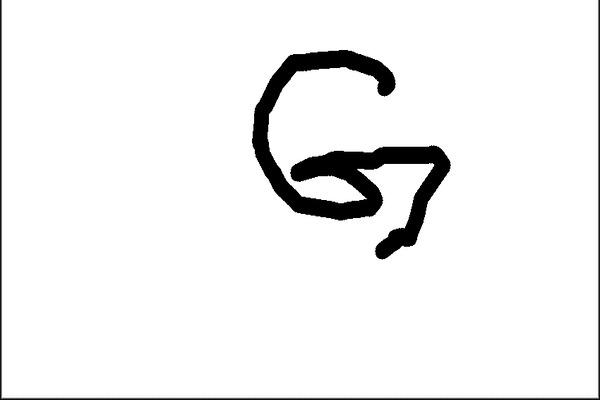G: (246, 43, 455, 265)
